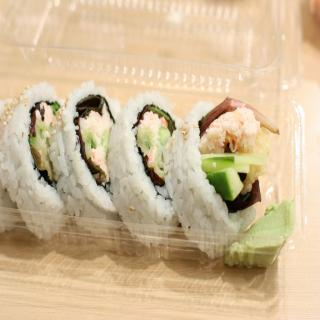Sushi: (0, 82, 280, 257), (104, 91, 180, 250)
